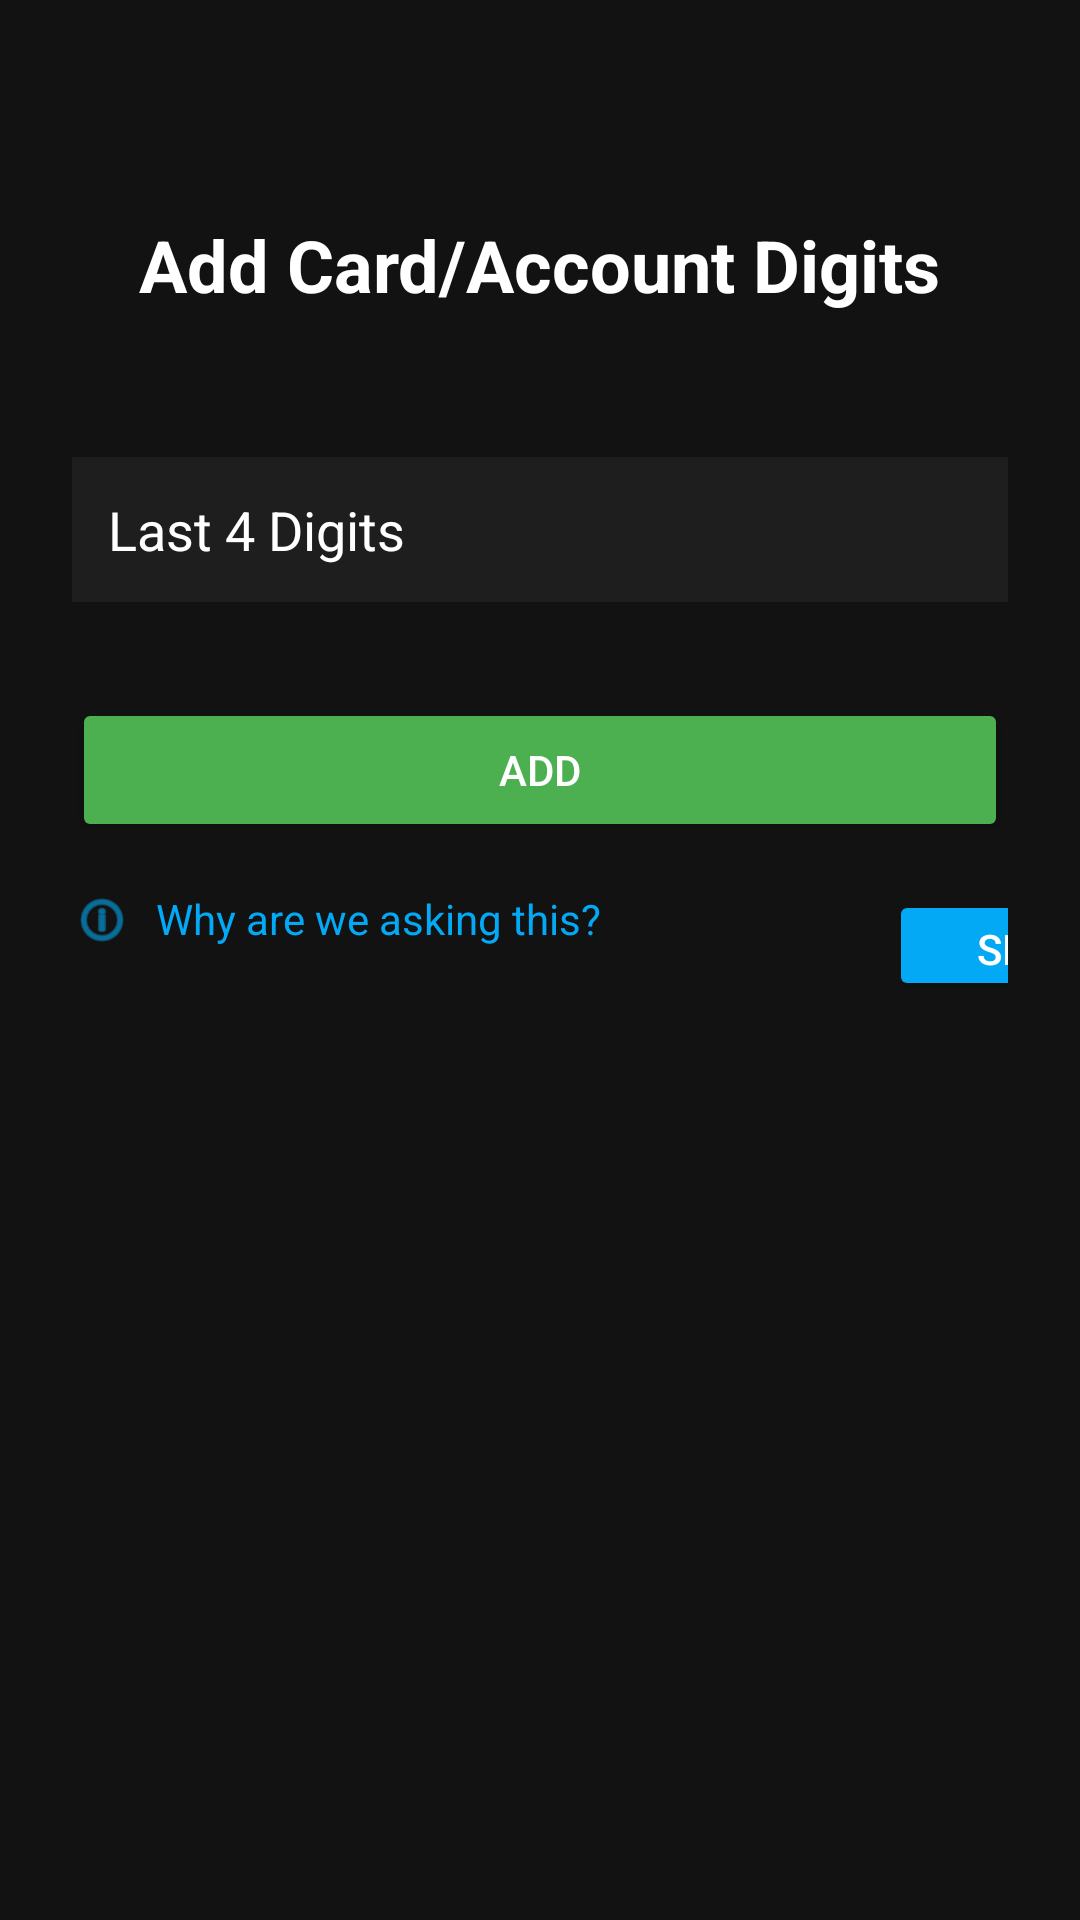

Screen size 1080x1920. Icon name, then its center in pixels as (x=x, y=y):
info details: (x=102, y=920)
